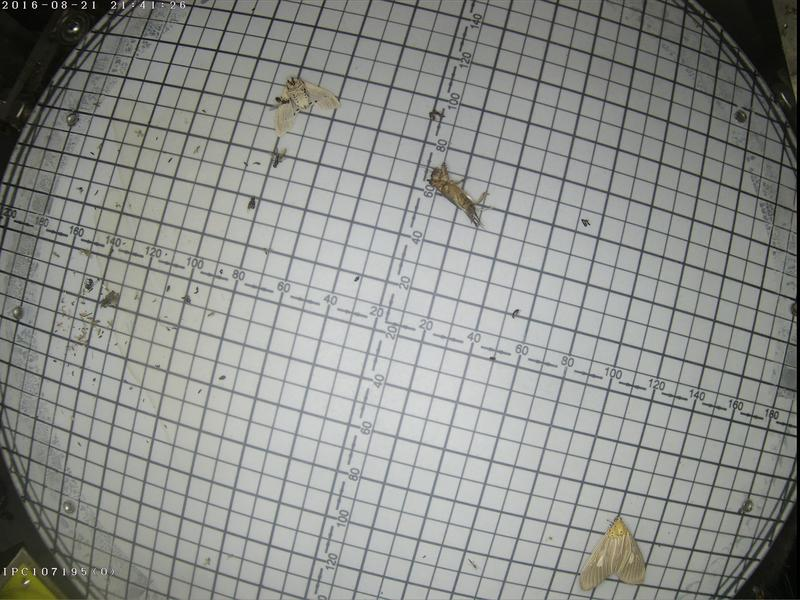Gryllotalpa orientalis: (425, 162, 485, 226)
